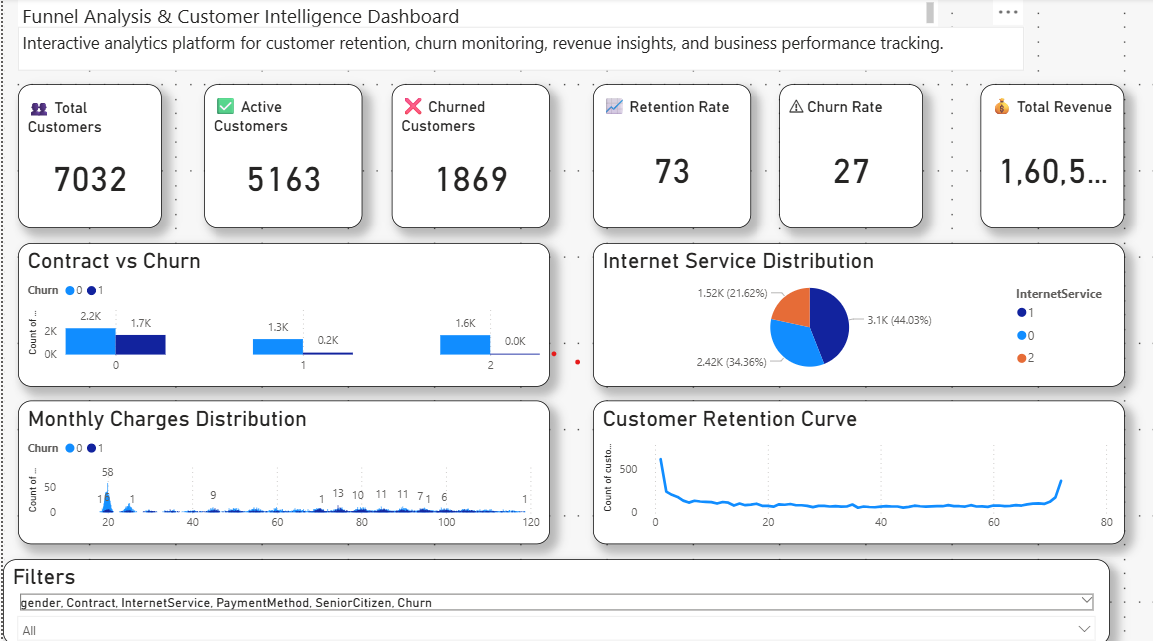

Layout of this report page (visuals, bound fields, positions):
{"tool":"powerbi","page":{"name":"Executive KPI Dashboard","canvas":[1280,720],"ordinal":0},"visuals":[{"type":"card","title":"👥 Total Customers","fields":{"Values":["clean_events.Total Customers"]},"box":[16,96,160,160],"z":0},{"type":"card","title":"✅ Active Customers","fields":{"Values":["clean_events.Active Customers"]},"box":[224,96,176,160],"z":1000},{"type":"card","title":"❌ Churned Customers","fields":{"Values":["clean_events.Churned Customers"]},"box":[432,96,176,160],"z":2000},{"type":"card","title":"📈 Retention Rate","fields":{"Values":["clean_events.Retention Rate"]},"box":[656,96,176,160],"z":3000},{"type":"card","title":"⚠ Churn Rate","fields":{"Values":["clean_events.Churn Rate"]},"box":[864,96,160,160],"z":4000},{"type":"card","title":"💰 Total Revenue","fields":{"Values":["clean_events.Total Revenue"]},"box":[1088,96,160,160],"z":5000},{"type":"clusteredColumnChart","title":"Contract vs Churn","fields":{"Category":["clean_events.Contract"],"Y":["CountNonNull(clean_events.customerID)"],"Series":["clean_events.Churn"]},"box":[16,272,592,160],"z":6000},{"type":"pieChart","title":"Internet Service Distribution","fields":{"Category":["clean_events.InternetService"],"Y":["CountNonNull(clean_events.customerID)"]},"box":[656,272,592,160],"z":7000},{"type":"clusteredColumnChart","title":"Monthly Charges Distribution","fields":{"Category":["clean_events.MonthlyCharges"],"Y":["CountNonNull(clean_events.customerID)"],"Series":["clean_events.Churn"]},"box":[16,448,592,160],"z":8000},{"type":"lineChart","title":"Customer Retention Curve","fields":{"Category":["clean_events.tenure"],"Y":["CountNonNull(clean_events.customerID)"]},"box":[656,448,592,160],"z":9000},{"type":"slicer","title":"Filters","fields":{"Values":["clean_events.gender","clean_events.Contract","clean_events.InternetService","clean_events.PaymentMethod","clean_events.SeniorCitizen","clean_events.Churn"]},"box":[0,624,1232,96],"z":10000},{"type":"textbox","box":[16,0,1024,48],"z":11000},{"type":"textbox","box":[16,48,1056,32],"z":12000}]}

Visuals, with their boxes in screenshot pixels (x1, y1, x2, y2), scaled from the page's 1280x720 canvas onto the 1153x641 screenshot:
"👥 Total Customers" card: <box>14,85,159,228</box>
"✅ Active Customers" card: <box>202,85,360,228</box>
"❌ Churned Customers" card: <box>389,85,548,228</box>
"📈 Retention Rate" card: <box>591,85,749,228</box>
"⚠ Churn Rate" card: <box>778,85,922,228</box>
"💰 Total Revenue" card: <box>980,85,1124,228</box>
"Contract vs Churn" clusteredColumnChart: <box>14,242,548,385</box>
"Internet Service Distribution" pieChart: <box>591,242,1124,385</box>
"Monthly Charges Distribution" clusteredColumnChart: <box>14,399,548,541</box>
"Customer Retention Curve" lineChart: <box>591,399,1124,541</box>
"Filters" slicer: <box>0,556,1110,640</box>
textbox: <box>14,0,937,43</box>
textbox: <box>14,43,966,71</box>
